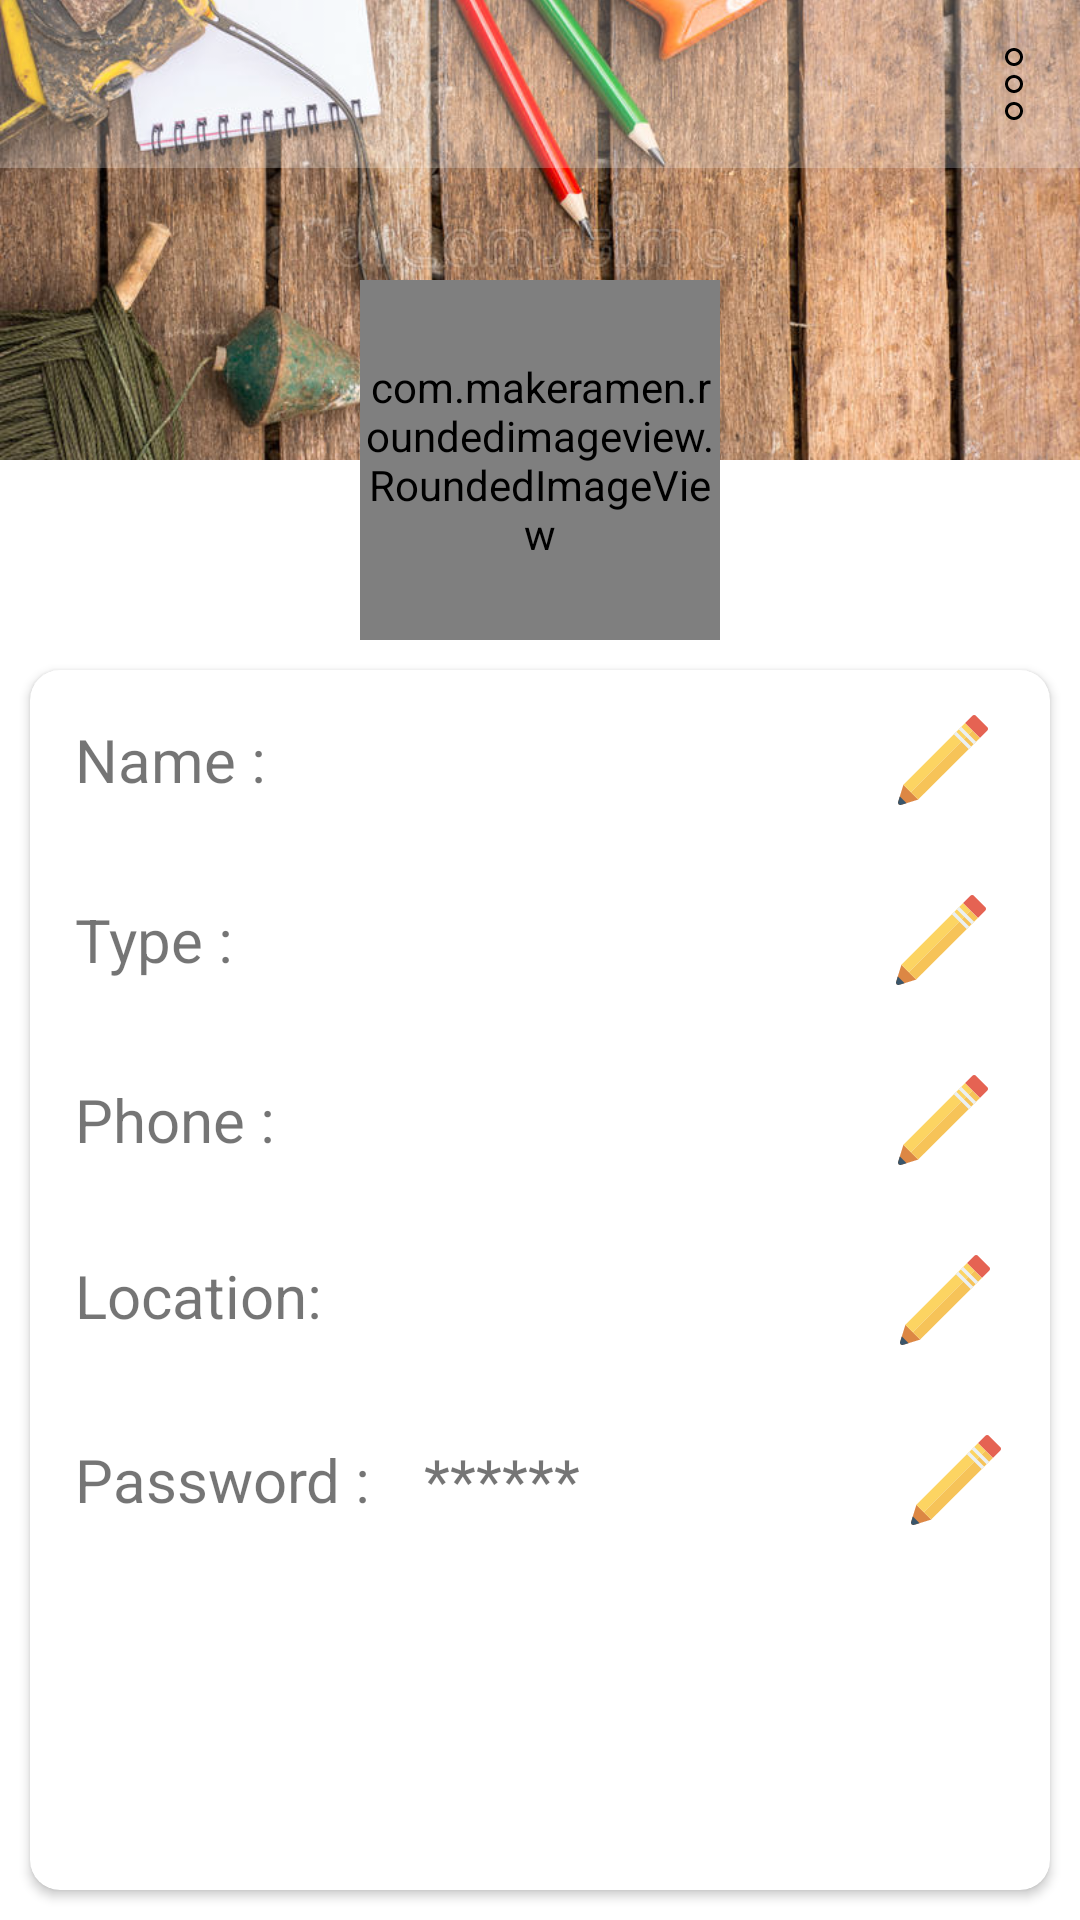

Named icons in this screenshot (1080 × 1920) and their bounding boxes, (x1, y1, x2, y2):
menu: (978, 49, 1050, 120)
pencil: (898, 715, 988, 805), (896, 895, 986, 985), (898, 1075, 988, 1165), (900, 1255, 990, 1345), (911, 1435, 1001, 1525)
